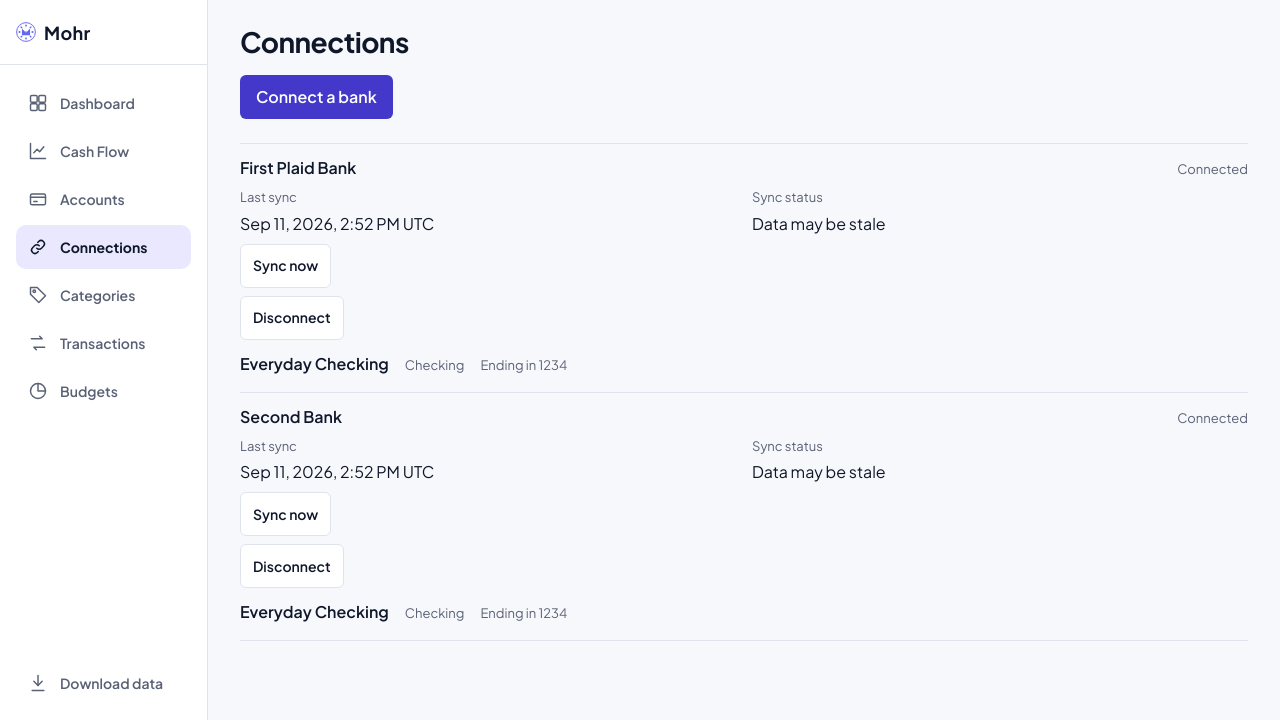
Test: connections manual sync › renders the real counts only on the requested connection and keeps them readable afterwards
The image size is (1280, 720).
Check: the heading "First Plaid Bank" is shown, box [240,156,356,180]
Click the button with aria-label "Sync now for First Plaid Bank" at [286, 266], box [240,244,331,288]
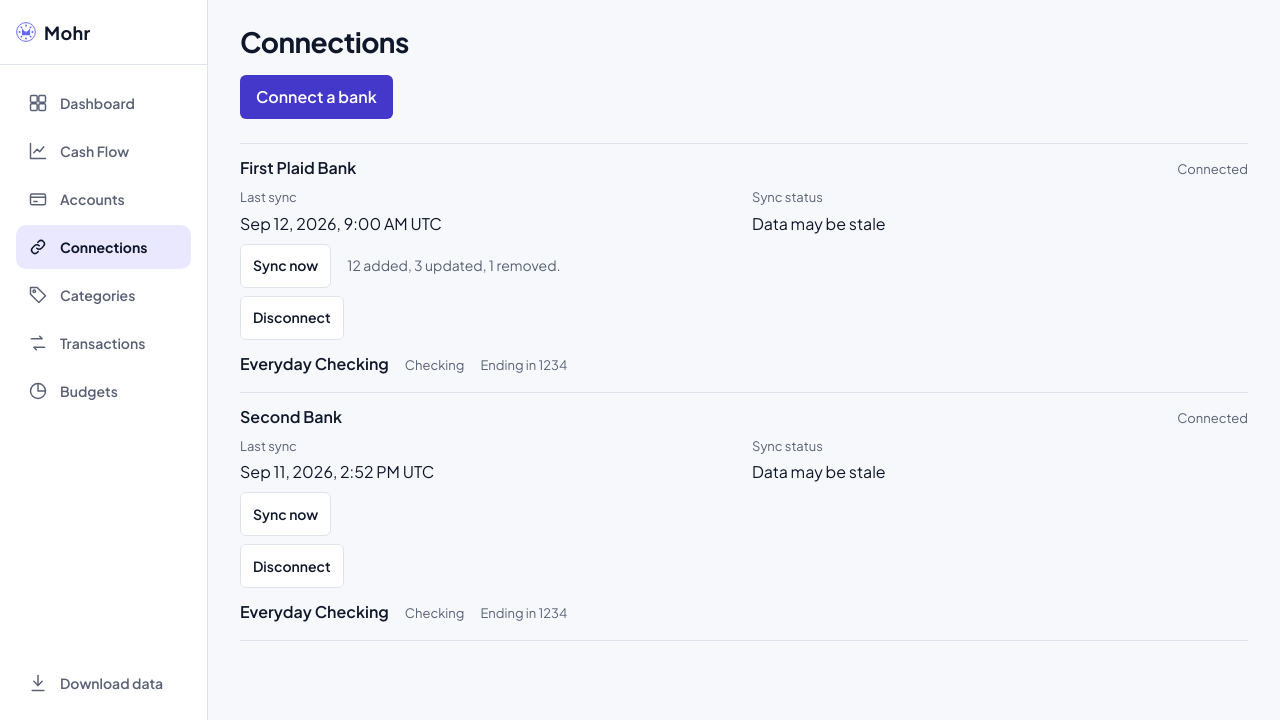
Check: the text "12 added, 3 updated, 1 removed." is shown, box [347,255,560,276]
Check: the message reads "12 added, 3 updated, 1 removed.", box [347,256,560,274]
Check: the text "Sep 12, 2026, 9:00 AM UTC" is shown, box [240,212,442,234]
